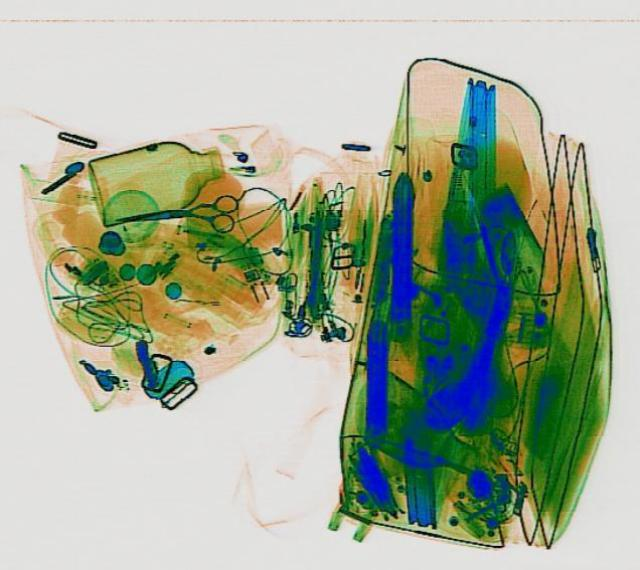Scissors: (111, 193, 239, 237)
